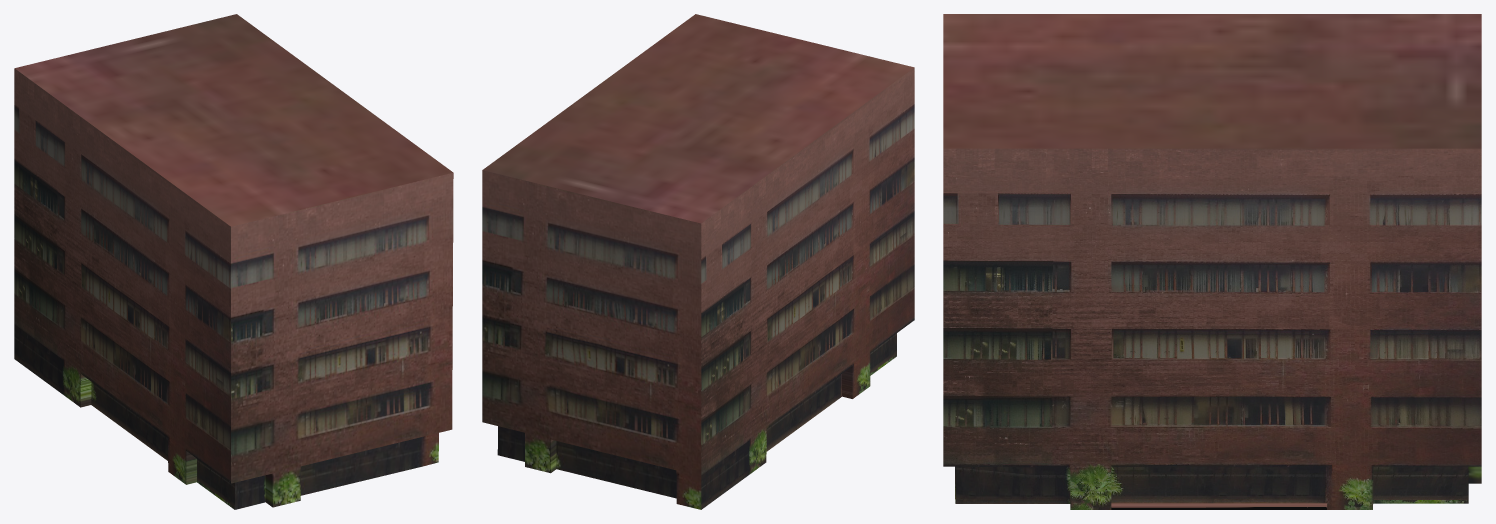
Rendered from RedBuilding.fbx.
3 renders of one model, left to right at view 1: azimuth 30°, elevation 25°; view 2: azimuth 150°, elevation 25°; view 3: azimuth 270°, elevation 25°, orthographic. The views are drawn at different scales.
Parts seen in each view (by area): view 1: pasted__XuAiZhou; view 2: pasted__XuAiZhou; view 3: pasted__XuAiZhou.
Part boxes in pixels (x1,y1,x2,y2): pasted__XuAiZhou: (14, 14, 453, 509); pasted__XuAiZhou: (482, 14, 914, 509); pasted__XuAiZhou: (943, 14, 1481, 509).
Bounding box in the file's own units: 8 × 10 × 13.5.
Materials: 1 (1 with a texture image).
